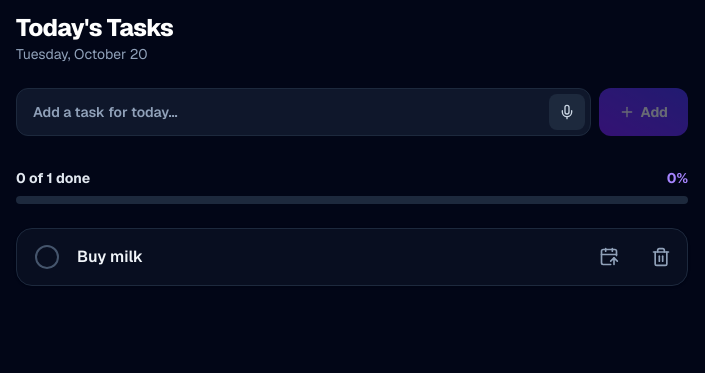
Test case: Daily tasks › restores the list and shows an error when a save fails
The width and height of the screenshot is (705, 373).
Click the button named "Delete \"Buy milk\"".
click(661, 257)  # box [639,235,683,279]
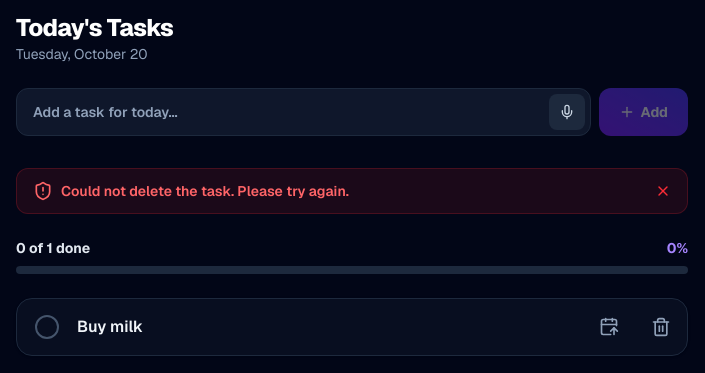
Expected: the text "Buy milk" is shown, [77,316,143,337]
Now the text "Could not delete the task. Please try again." is shown, box [61,181,349,201]
